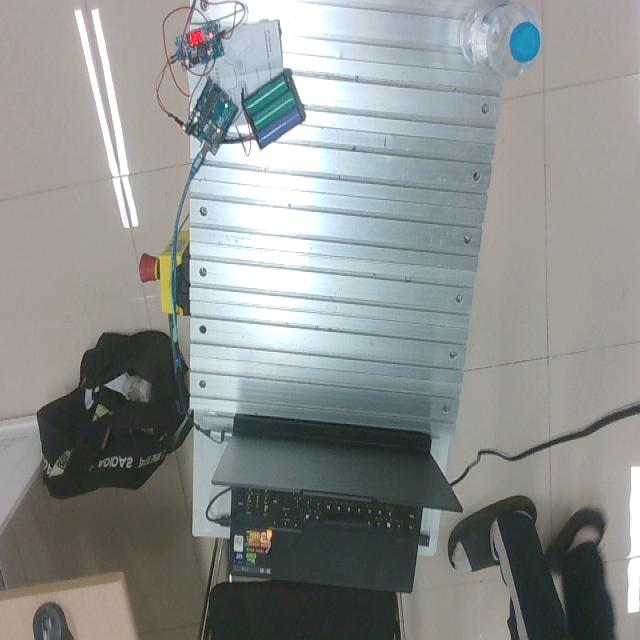lavie: (459, 5, 541, 79)
